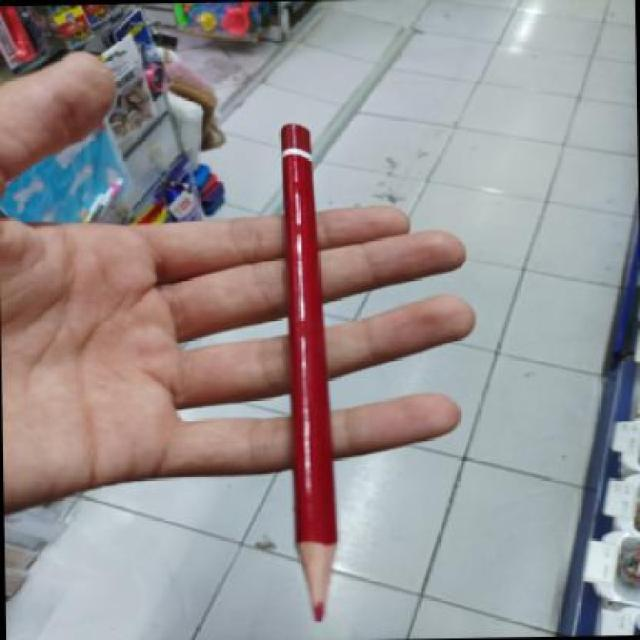pencil: (278, 127, 345, 616)
